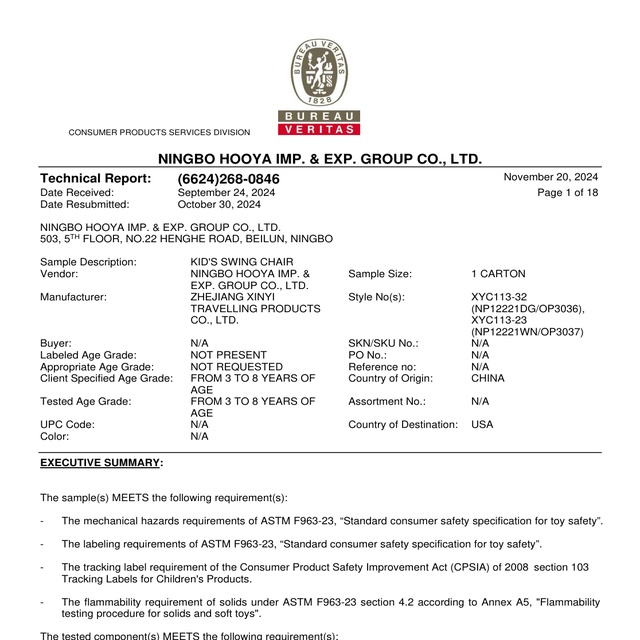bureau_veritas: (275, 37, 362, 139)
